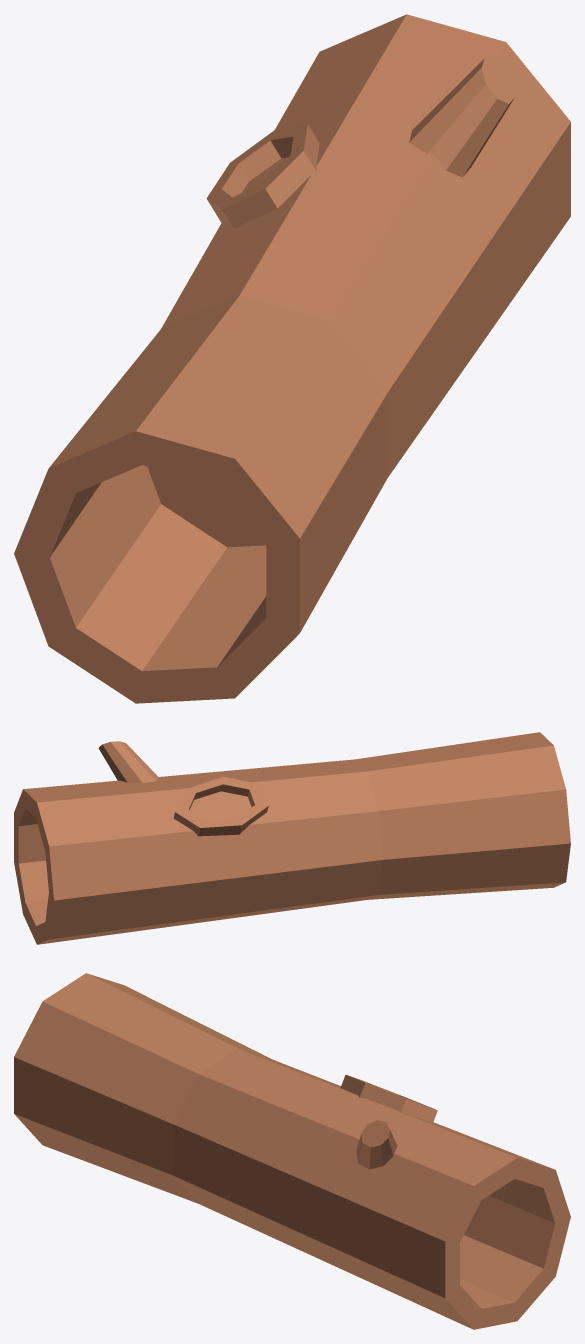
The model's file is Trunk.fbx.
The picture shows the model from 3 angles, top to bottom: view 1: azimuth 30°, elevation 25°; view 2: azimuth 150°, elevation 25°; view 3: azimuth 270°, elevation 25°; orthographic projection. The views are drawn at different scales.
Visible parts, largest first — view 1: Trunk; view 2: Trunk; view 3: Trunk.
Boxes of the visible parts, x1=… form: Trunk: x1=14, y1=14, x2=570, y2=703; Trunk: x1=14, y1=732, x2=570, y2=944; Trunk: x1=14, y1=973, x2=570, y2=1329.
Size of the model in its own units: 317 by 118 by 314.
